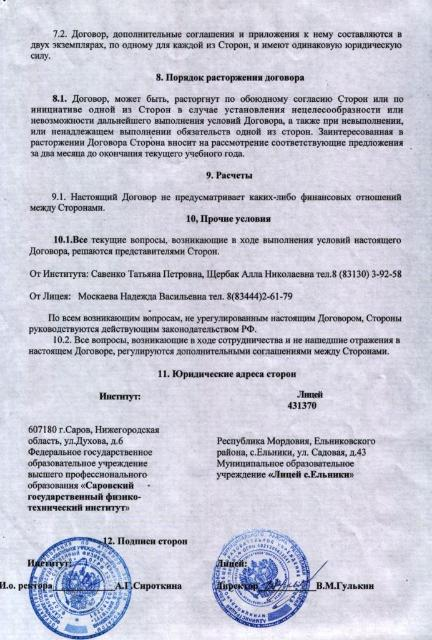stamp: (26, 538, 134, 640), (214, 528, 310, 628)
